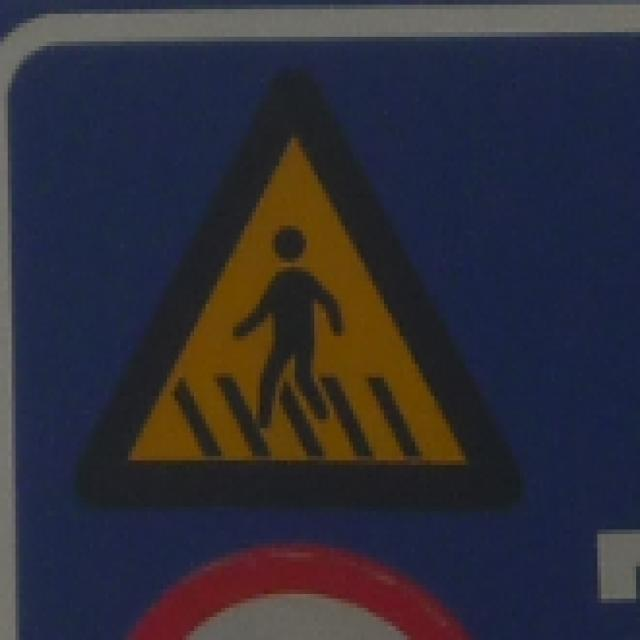Crossing: (62, 58, 544, 532)
